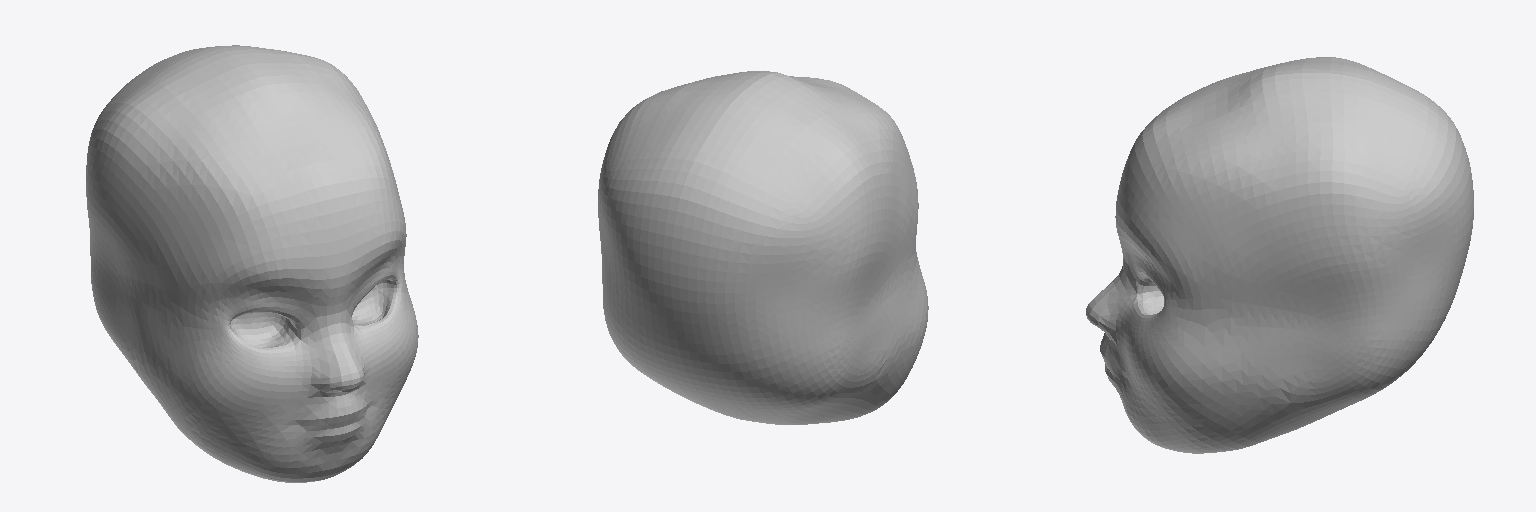
The model's file is auntiebettie_face_unwrap.obj.
3 views of the same model, side by side, from view 1: azimuth 30°, elevation 25°; view 2: azimuth 150°, elevation 25°; view 3: azimuth 270°, elevation 25° (orthographic).
Parts seen in each view (by area): view 1: ZBrush_defualt_group; view 2: ZBrush_defualt_group; view 3: ZBrush_defualt_group.
Boxes of the visible parts, box(x1,y1,x2,y2) form: ZBrush_defualt_group: box(86, 45, 418, 482); ZBrush_defualt_group: box(598, 71, 928, 424); ZBrush_defualt_group: box(1086, 57, 1473, 453).
Bounding box in the file's own units: 1.88 × 2.54 × 2.44.